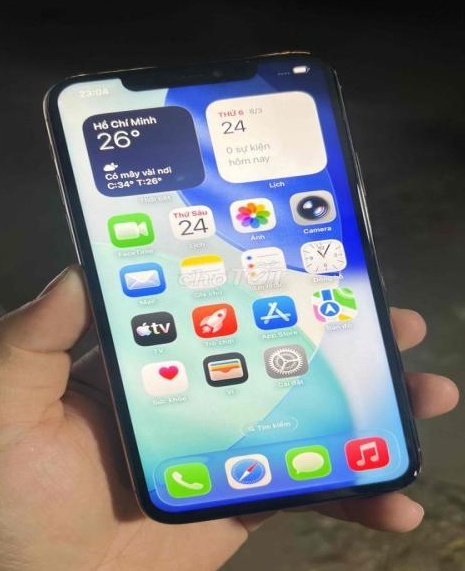scratch: (353, 178, 376, 243), (255, 43, 327, 60), (57, 64, 167, 75)
